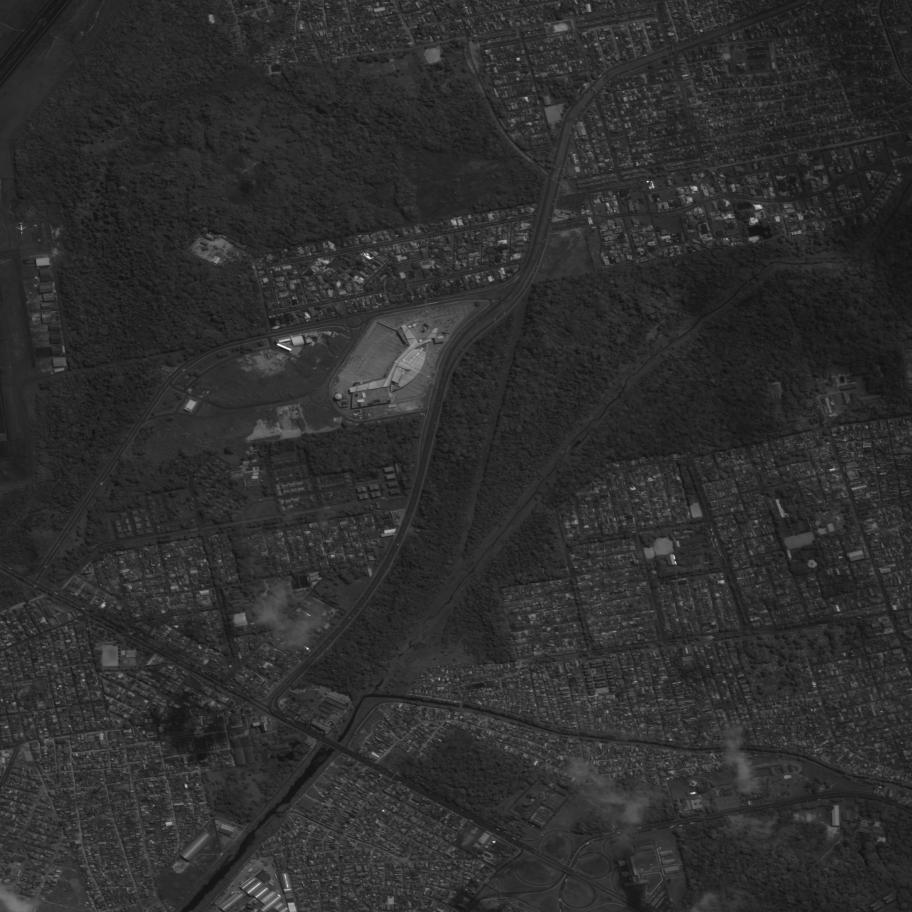plane: (15, 221, 28, 236), (37, 220, 48, 229), (31, 281, 41, 290), (33, 275, 39, 280), (33, 223, 38, 228), (42, 369, 47, 373), (37, 238, 42, 242), (47, 369, 51, 372)
storage-tank: (334, 393, 342, 400), (690, 781, 697, 786), (248, 446, 254, 451), (245, 450, 251, 455)
